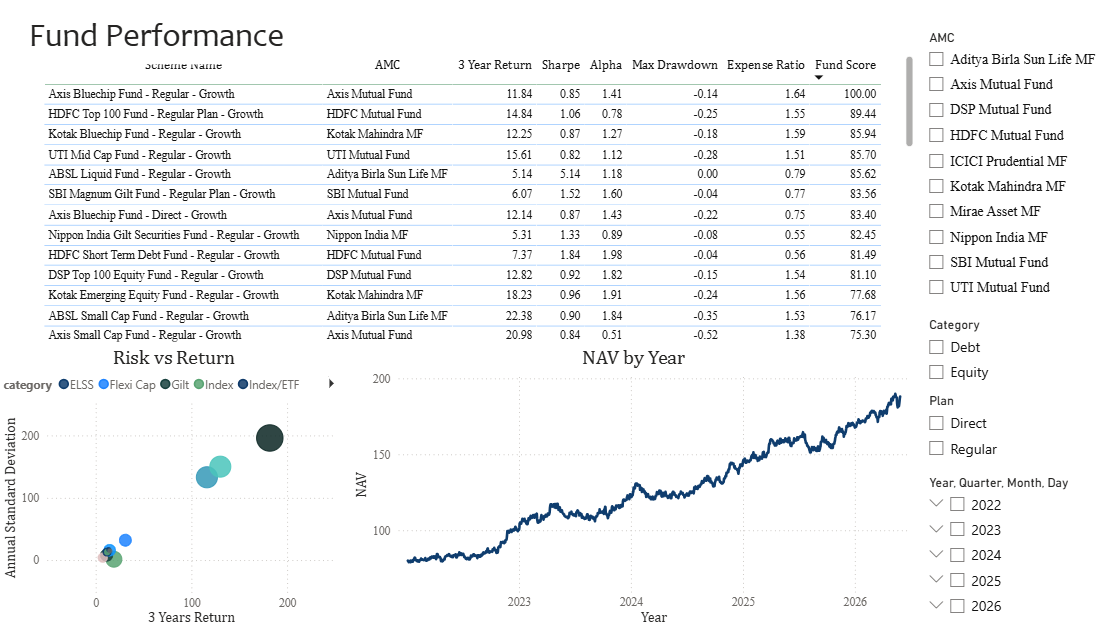

What the dashboard file says about the page in this screenshot:
{"tool":"powerbi","page":{"name":"Fund Performance","canvas":[1280,720],"ordinal":1},"visuals":[{"type":"scatterChart","title":"Risk vs Return","fields":{"X":["Sum(scheme_performance_cleaned.return_3yr_pct)"],"Y":["Sum(scheme_performance_cleaned.std_dev_ann_pct)"],"Size":["Sum(scheme_performance_cleaned.aum_crore)"],"Series":["scheme_performance_cleaned.category"]},"box":[0,397.9,399.3,322.5],"z":0},{"type":"tableEx","fields":{"Values":["fund_master_cleaned.scheme_name","fund_master_cleaned.fund_house","scheme_performance_cleaned.return_3yr_pct","scheme_performance_cleaned.sharpe_ratio","scheme_performance_cleaned.alpha","fund_scorecard.max_drawdown","scheme_performance_cleaned.expense_ratio_pct","fund_scorecard.fund_score"]},"box":[45.3,61.7,1004.5,336.2],"z":1000},{"type":"slicer","fields":{"Values":["fund_master_cleaned.fund_house"]},"box":[1049.7,31.6,230.5,322.5],"z":2000},{"type":"slicer","fields":{"Values":["fund_master_cleaned.category"]},"box":[1049.7,359.5,230.5,87.8],"z":3000},{"type":"slicer","fields":{"Values":["fund_master_cleaned.plan"]},"box":[1049.7,447.3,230.5,93.3],"z":4000},{"type":"lineChart","title":"NAV by Year","fields":{"Y":["Median(nav_history_cleaned.nav)"],"Category":["nav_history_cleaned.date.Variation.Date Hierarchy.Year","nav_history_cleaned.date.Variation.Date Hierarchy.Quarter","nav_history_cleaned.date.Variation.Date Hierarchy.Month","nav_history_cleaned.date.Variation.Date Hierarchy.Day"]},"box":[402.1,397.9,647.7,322.5],"z":5000},{"type":"slicer","fields":{"Values":["nav_history_cleaned.date.Variation.Date Hierarchy.Year","nav_history_cleaned.date.Variation.Date Hierarchy.Quarter","nav_history_cleaned.date.Variation.Date Hierarchy.Month","nav_history_cleaned.date.Variation.Date Hierarchy.Day"]},"box":[1049.7,540.7,230.5,179.8],"z":6000},{"type":"textbox","box":[13.7,13.7,413,61.7],"z":6001}]}

Visuals, with their boxes in screenshot pixels (x1, y1, x2, y2), scaled from the page's 1280x720 canvas onto the 1113x625 screenshot:
"Risk vs Return" scatterChart: detection(0, 345, 347, 624)
tableEx - fund_master_cleaned.scheme_name x fund_master_cleaned.fund_house: detection(39, 54, 913, 345)
slicer - fund_master_cleaned.fund_house: detection(913, 27, 1112, 307)
slicer - fund_master_cleaned.category: detection(913, 312, 1112, 388)
slicer - fund_master_cleaned.plan: detection(913, 388, 1112, 469)
"NAV by Year" lineChart: detection(350, 345, 913, 624)
slicer - nav_history_cleaned.date.Variation.Date Hierarchy.Year x nav_history_cleaned.date.Variation.Date Hierarchy.Quarter: detection(913, 469, 1112, 624)
textbox: detection(12, 12, 371, 65)
